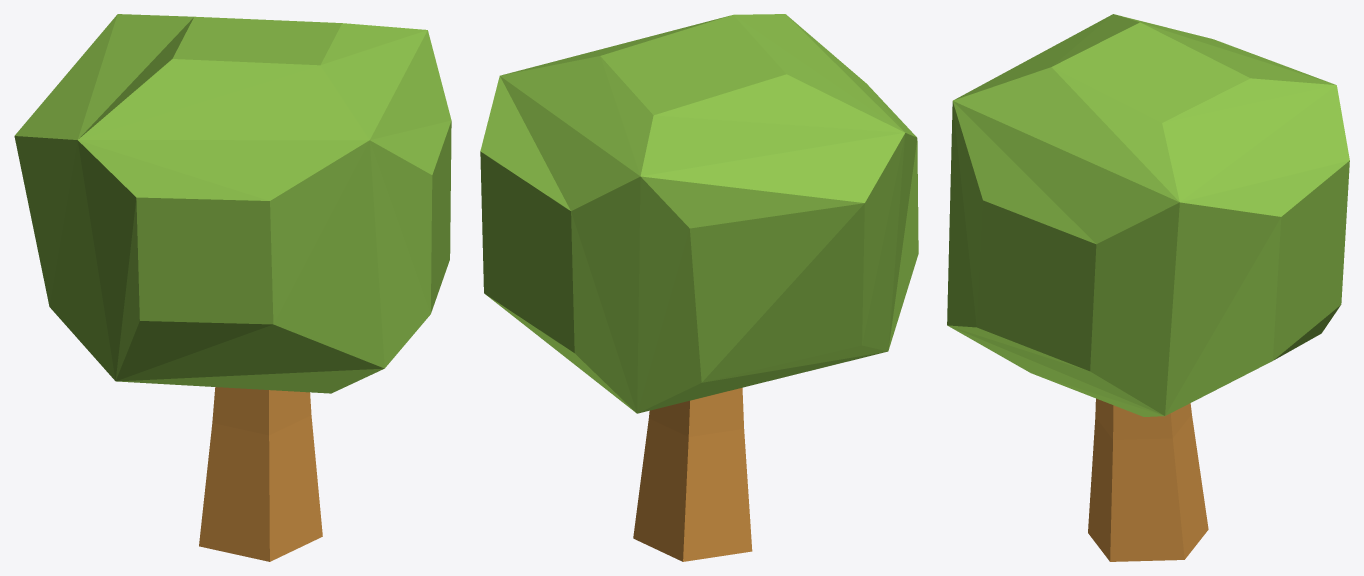
Rendered from tree3.glb.
3 views of the same model, side by side, from view 1: azimuth 30°, elevation 25°; view 2: azimuth 150°, elevation 25°; view 3: azimuth 270°, elevation 25° (orthographic). The views are drawn at different scales.
Visible parts, largest first — view 1: tree3; view 2: tree3; view 3: tree3.
Boxes of the visible parts, left/top/right/bottom form: tree3: left=14, top=14, right=451, bottom=561; tree3: left=480, top=14, right=918, bottom=561; tree3: left=947, top=14, right=1349, bottom=561.
Size of the model in its own units: 0.1894 by 0.23 by 0.1747.
